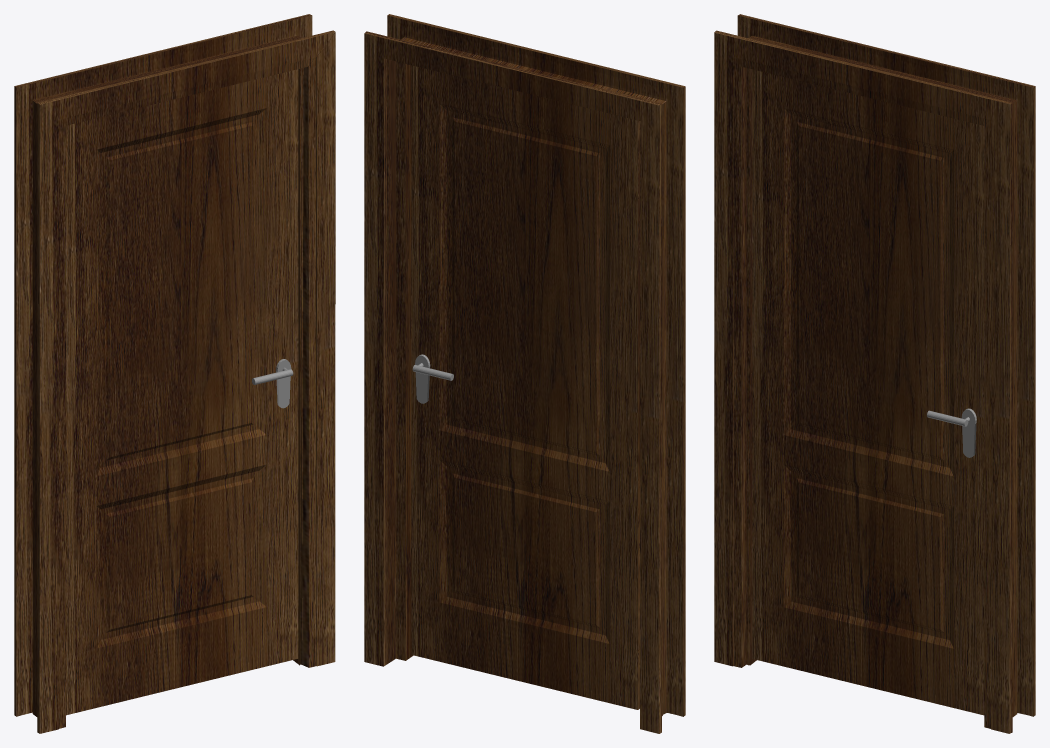
The model's file is Door.FBX.
The picture shows the model from 3 angles, left to right: view 1: azimuth 30°, elevation 25°; view 2: azimuth 150°, elevation 25°; view 3: azimuth 330°, elevation 25°; orthographic projection.
Parts seen in each view (by area): view 1: door, frame door; view 2: door, frame door; view 3: door, frame door.
Boxes of the visible parts, x1,y1,x2,y2 form: door: [66, 69, 298, 715]; frame door: [14, 14, 335, 733]; door: [411, 65, 640, 709]; frame door: [364, 14, 685, 733]; door: [752, 69, 984, 715]; frame door: [714, 14, 1035, 733].
Bounding box in the file's own units: 104 × 212 × 16.76.
Materials: 2 (1 with a texture image).
